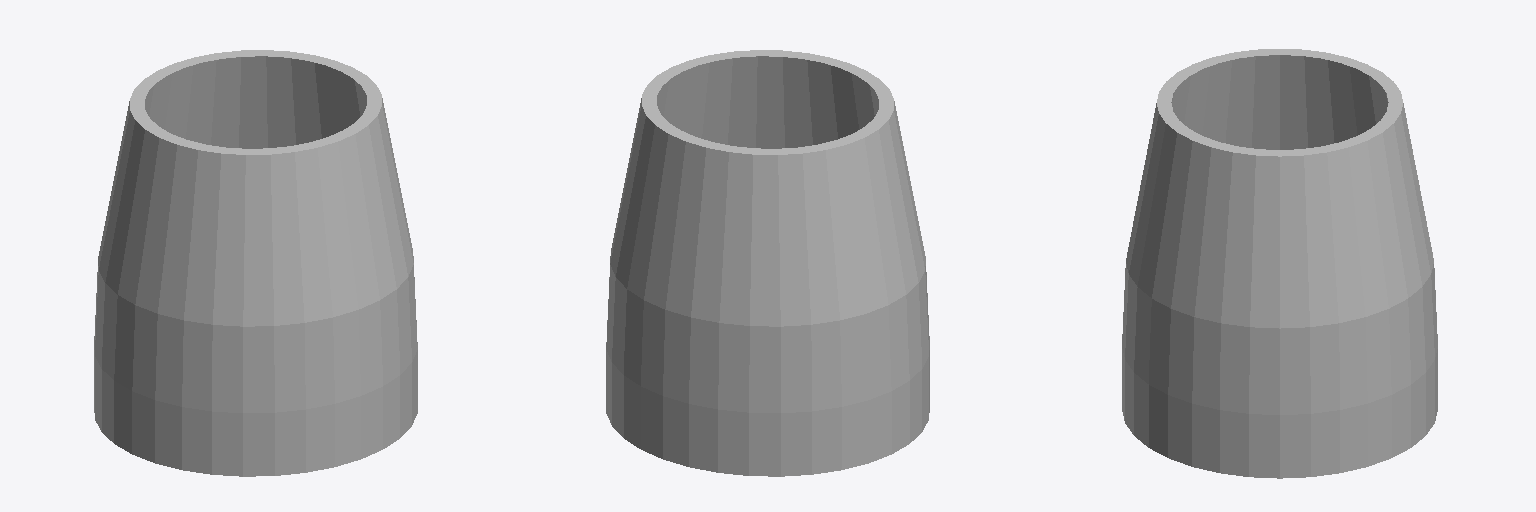
File: stand3.obj
The picture shows the model from 3 angles: view 1: azimuth 30°, elevation 25°; view 2: azimuth 150°, elevation 25°; view 3: azimuth 270°, elevation 25°; orthographic projection.
Parts seen in each view (by area): view 1: Plane.017; view 2: Plane.017; view 3: Plane.017.
Boxes of the visible parts, x1,y1,x2,y2 form: Plane.017: [94, 50, 417, 476]; Plane.017: [606, 50, 929, 476]; Plane.017: [1122, 49, 1437, 478].
Size of the model in its own units: 0.2701 by 0.2793 by 0.2607.